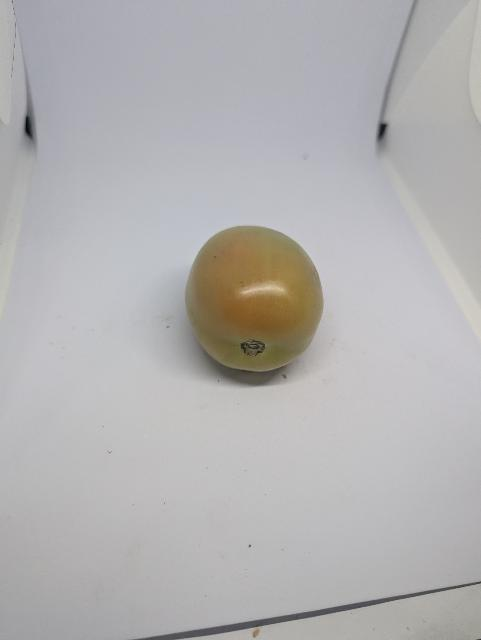breaker: (186, 226, 324, 371)
